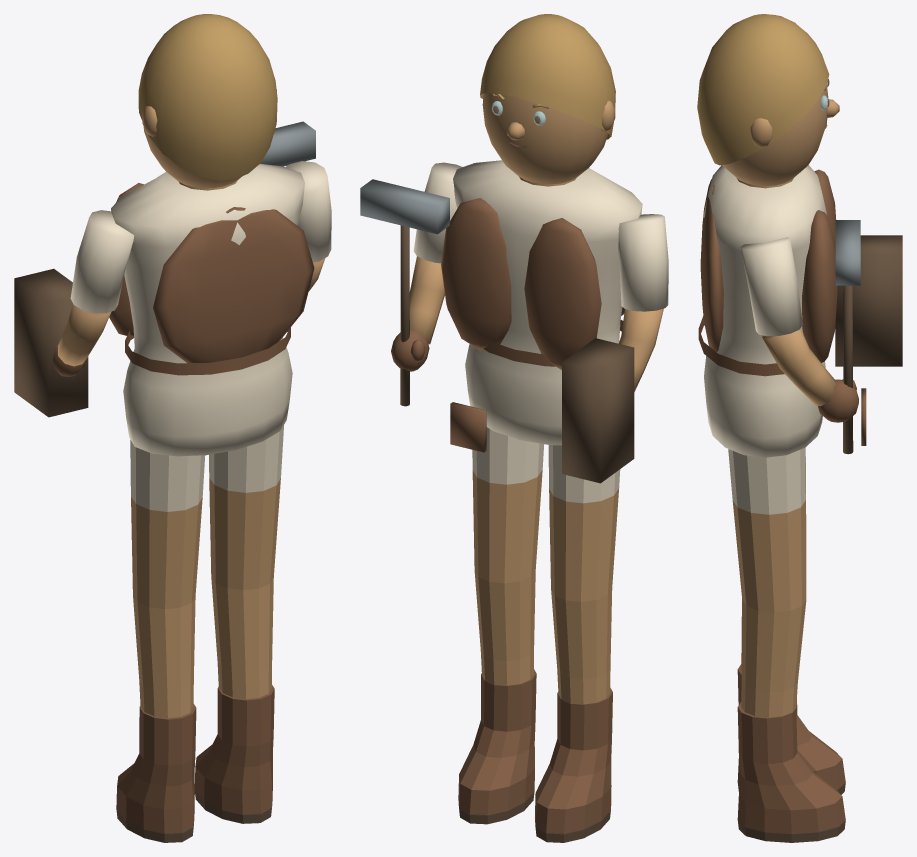
File: SM_NPC_NACAR.glb
3 views of the same model, side by side, from view 1: azimuth 30°, elevation 25°; view 2: azimuth 150°, elevation 25°; view 3: azimuth 270°, elevation 25° (orthographic). The views are drawn at different scales.
Visible parts, largest first — view 1: SM_NPC_NACAR_BODY, SM_NPC_NACAR_LEG_L, SM_NPC_NACAR_LEG_R, SM_NPC_NACAR_HAIR, SM_NPC_NACAR_ARM_L, SM_NPC_NACAR_ARM_R, SM_NPC_NACAR_HEAD; view 2: SM_NPC_NACAR_BODY, SM_NPC_NACAR_LEG_R, SM_NPC_NACAR_LEG_L, SM_NPC_NACAR_ARM_L, SM_NPC_NACAR_HAIR, SM_NPC_NACAR_ARM_R, SM_NPC_NACAR_HEAD; view 3: SM_NPC_NACAR_BODY, SM_NPC_NACAR_LEG_R, SM_NPC_NACAR_HAIR, SM_NPC_NACAR_ARM_R, SM_NPC_NACAR_ARM_L, SM_NPC_NACAR_HEAD, SM_NPC_NACAR_LEG_L.
Part boxes in pixels (x1=…): SM_NPC_NACAR_BODY: x1=109, y1=163, x2=314, y2=456; SM_NPC_NACAR_LEG_L: x1=116, y1=440, x2=205, y2=842; SM_NPC_NACAR_LEG_R: x1=194, y1=425, x2=283, y2=823; SM_NPC_NACAR_HAIR: x1=138, y1=14, x2=277, y2=180; SM_NPC_NACAR_ARM_L: x1=14, y1=210, x2=134, y2=417; SM_NPC_NACAR_ARM_R: x1=260, y1=121, x2=331, y2=291; SM_NPC_NACAR_HEAD: x1=142, y1=89, x2=276, y2=188; SM_NPC_NACAR_BODY: x1=441, y1=160, x2=642, y2=452; SM_NPC_NACAR_LEG_R: x1=458, y1=427, x2=544, y2=824; SM_NPC_NACAR_LEG_L: x1=535, y1=445, x2=620, y2=842; SM_NPC_NACAR_ARM_L: x1=562, y1=214, x2=668, y2=483; SM_NPC_NACAR_HAIR: x1=480, y1=14, x2=615, y2=139; SM_NPC_NACAR_ARM_R: x1=360, y1=162, x2=462, y2=406; SM_NPC_NACAR_HEAD: x1=482, y1=93, x2=615, y2=184; SM_NPC_NACAR_BODY: x1=698, y1=165, x2=866, y2=457; SM_NPC_NACAR_LEG_R: x1=728, y1=447, x2=845, y2=842; SM_NPC_NACAR_HAIR: x1=697, y1=14, x2=829, y2=165; SM_NPC_NACAR_ARM_R: x1=740, y1=220, x2=860, y2=454; SM_NPC_NACAR_ARM_L: x1=835, y1=235, x2=902, y2=366; SM_NPC_NACAR_HEAD: x1=722, y1=85, x2=839, y2=186; SM_NPC_NACAR_LEG_L: x1=737, y1=456, x2=845, y2=794.
Size of the model in its own units: 0.6391 by 1.81 by 0.4264.
